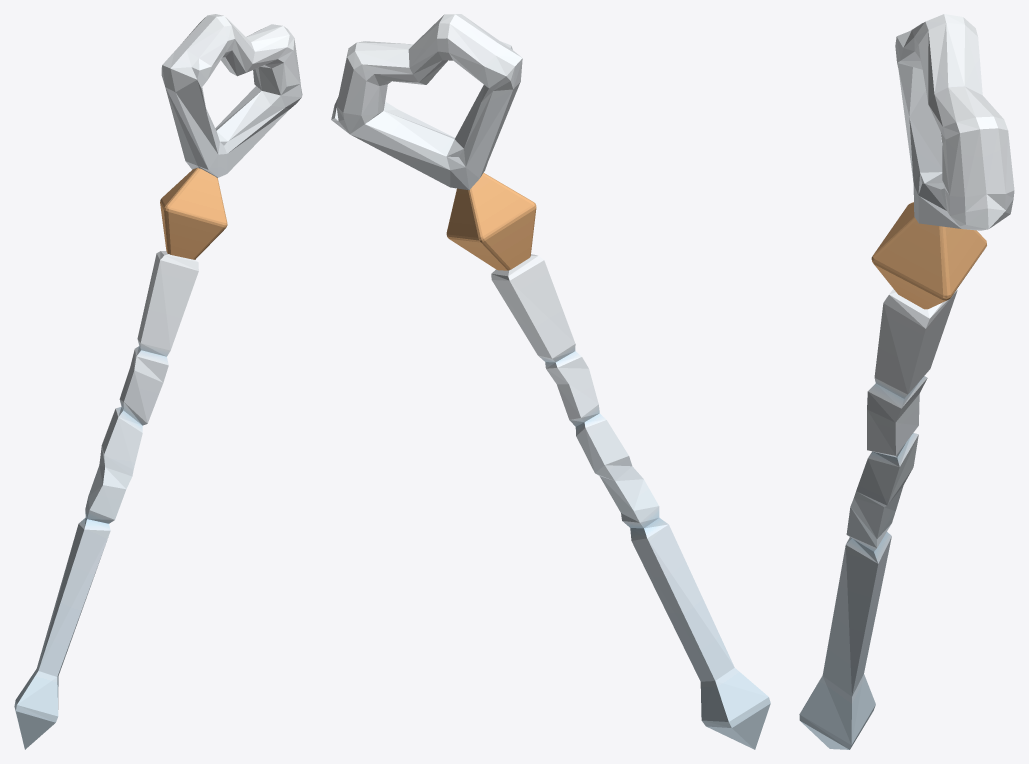
Rendered from CharSkyKid_Prop_HeartFirework.glb.
3 renders of one model, left to right at view 1: azimuth 30°, elevation 25°; view 2: azimuth 150°, elevation 25°; view 3: azimuth 270°, elevation 25°, orthographic. The views are drawn at different scales.
Visible parts, largest first — view 1: CharSkyKid_Prop_HeartFirework; view 2: CharSkyKid_Prop_HeartFirework; view 3: CharSkyKid_Prop_HeartFirework.
Part boxes in pixels (x1,y1,x2,y2): CharSkyKid_Prop_HeartFirework: (14, 14, 302, 749); CharSkyKid_Prop_HeartFirework: (331, 14, 770, 749); CharSkyKid_Prop_HeartFirework: (799, 14, 1014, 749).
Bounding box in the file's own units: 4.43 × 8 × 1.75.
1 material, 1 textured.
